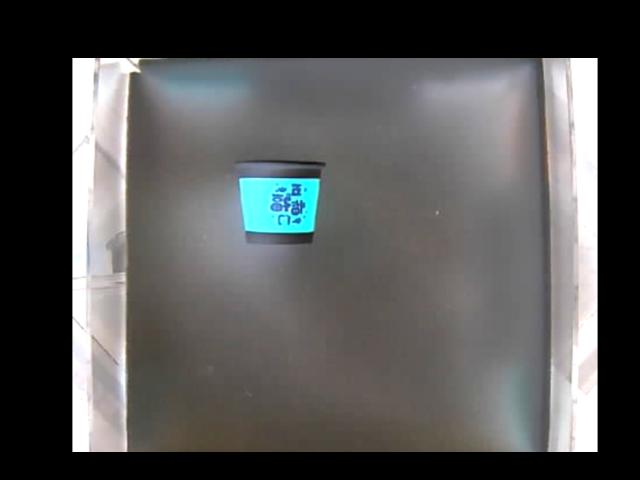Cup: (234, 154, 323, 246)
